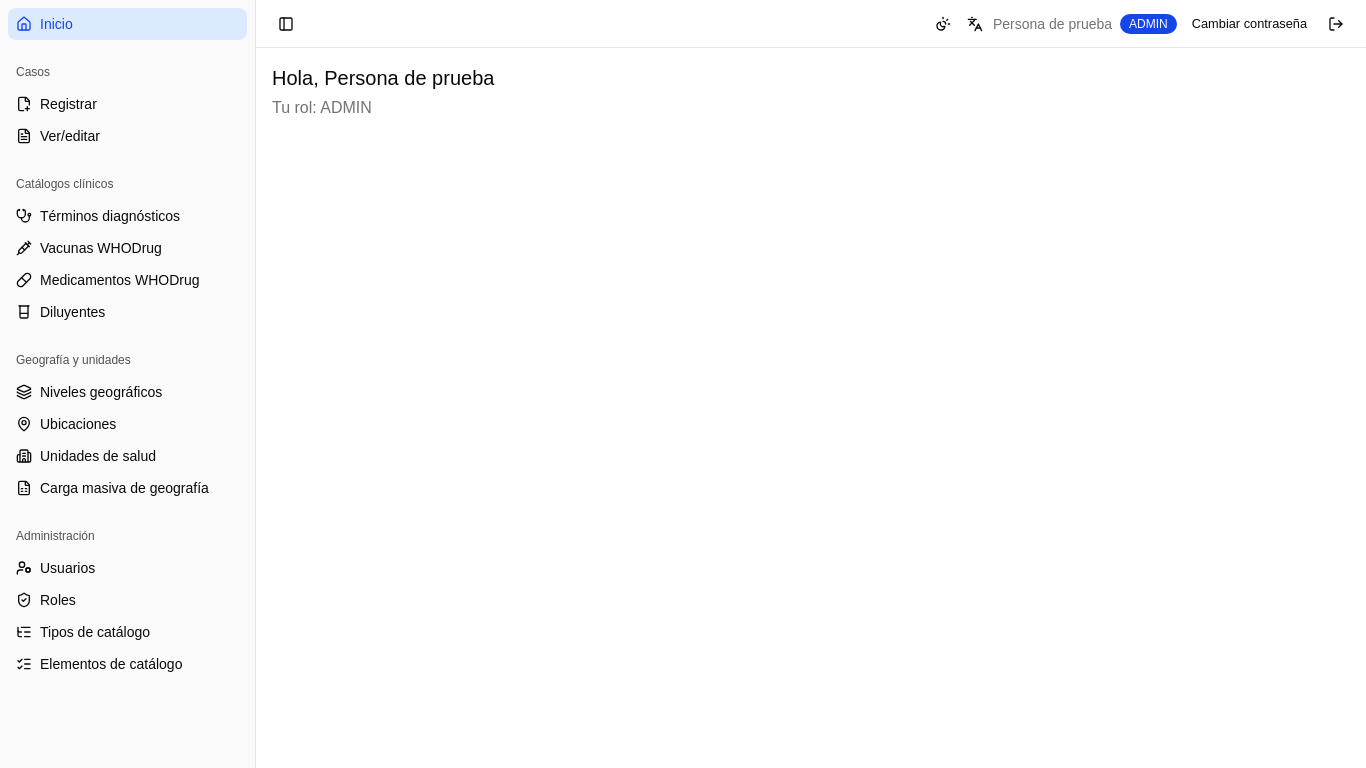
Test: Ruta /catalog-types — navegación desde el sidebar › el enlace del sidebar navega a la pantalla de tipos de catálogo
Click the link "Tipos de catálogo" at (83, 632), box [16, 624, 150, 640]
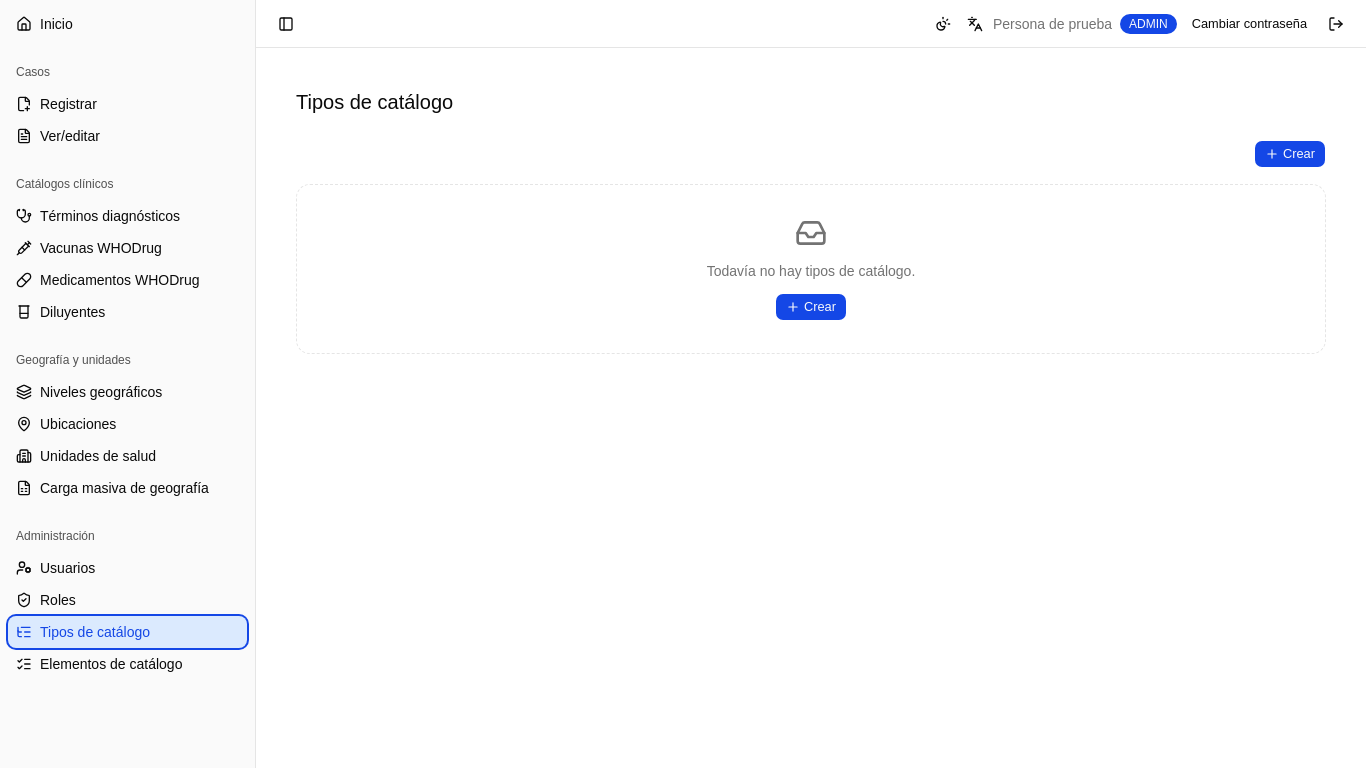
Check: the heading "Tipos de catálogo" is shown, box [296, 91, 453, 113]
